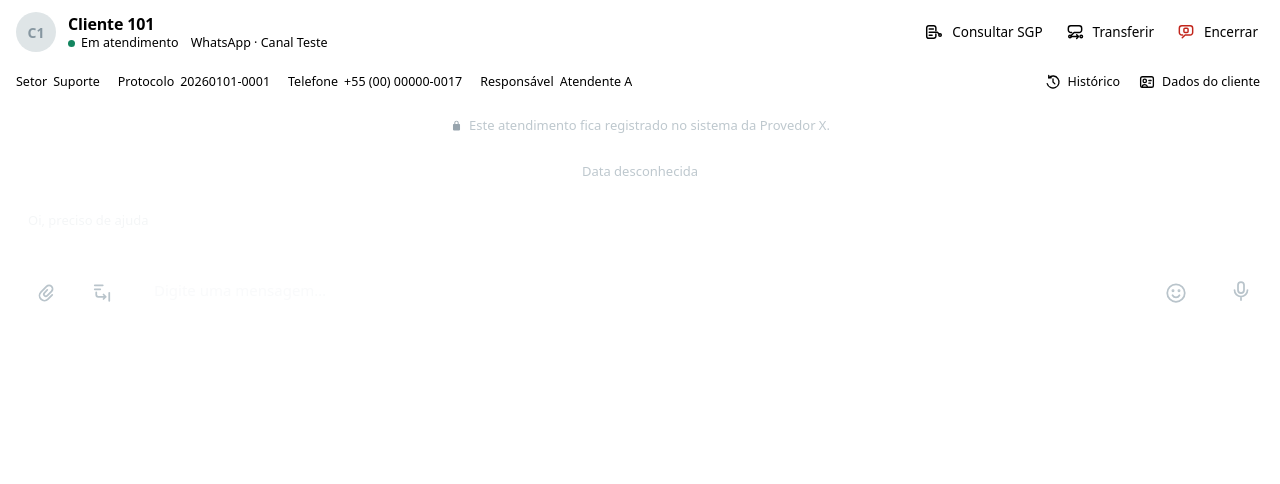
cabeçalho da mesa › Dados do cliente abre o painel do cliente
Click the button "Dados do cliente" at (1199, 82), box [1130,66,1268,98]
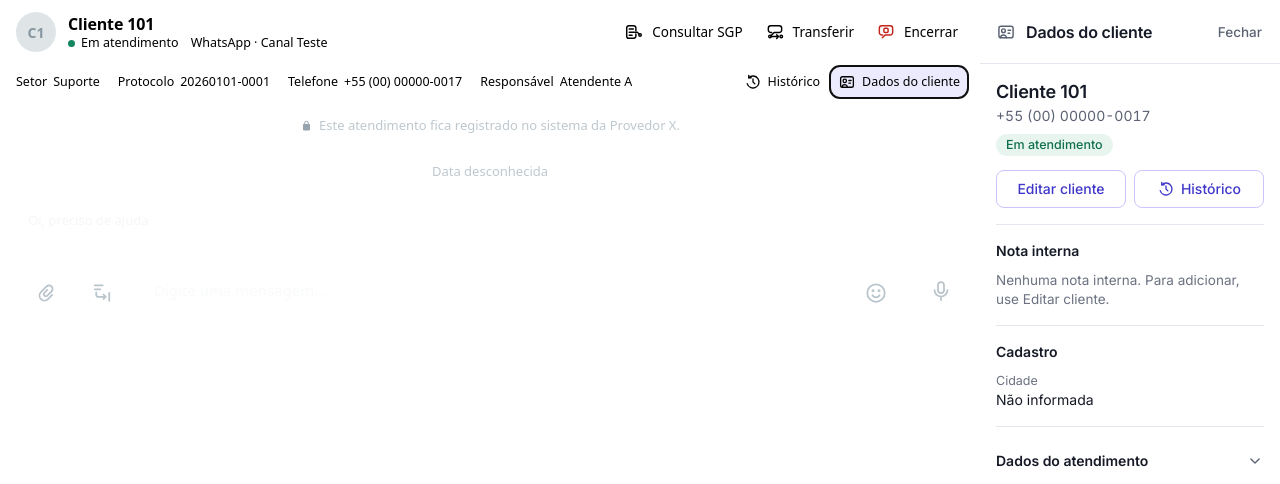
Check: the button "Dados do cliente" is expanded, box [830,66,968,98]
